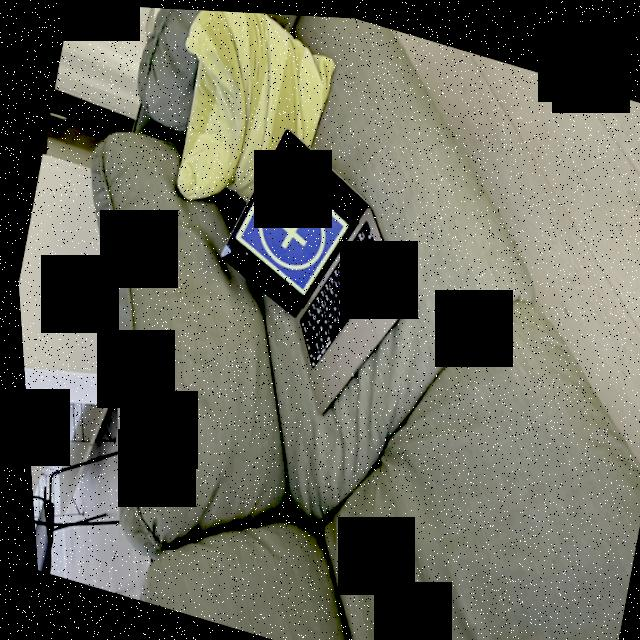Marker: (220, 148, 359, 298)
